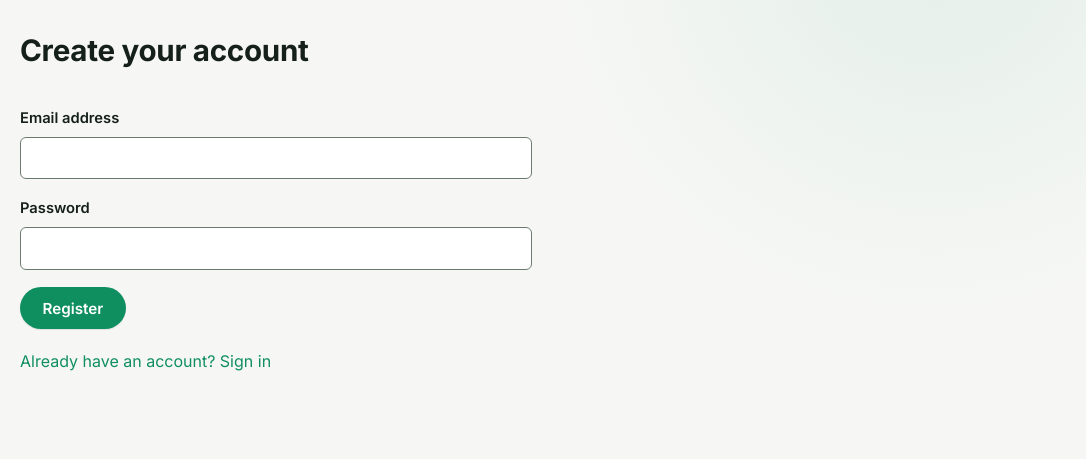
RegisterForm › renders a visible error banner on a mocked 4xx from the register endpoint
Step 1. Type "dupe@example.com" into the field labelled "Email address" → (276, 158), box [20,136,532,179]
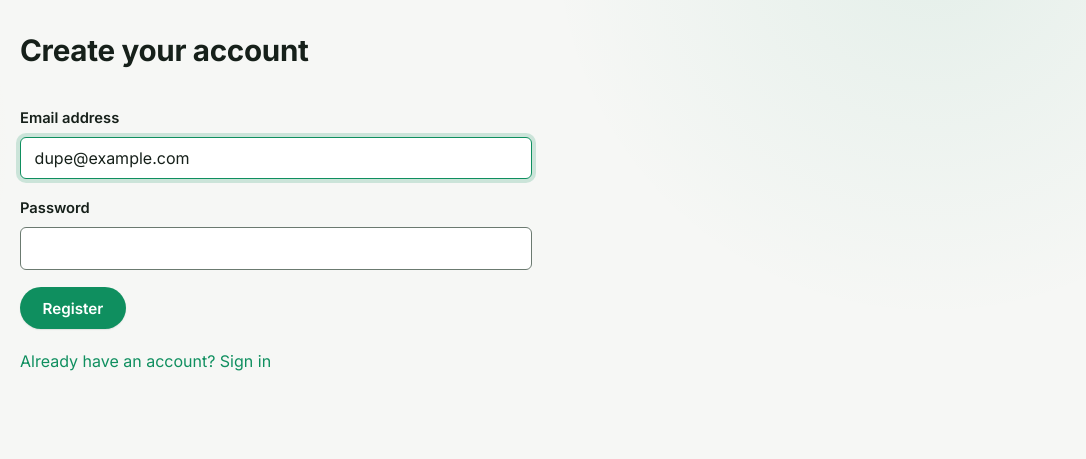
Step 2. Type "a-real-password" into the password field labelled "Password" → (276, 248), box [20,227,532,270]
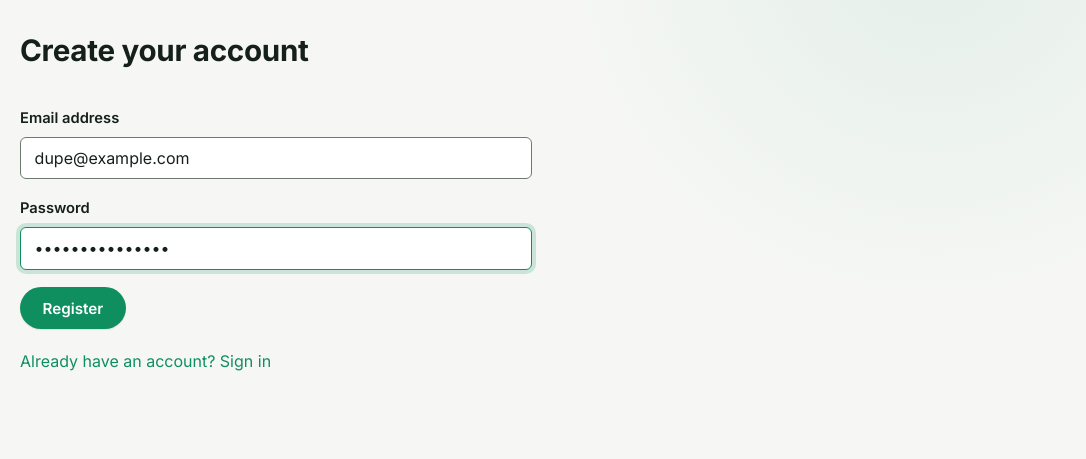
Step 3. Click the button "Register" → click(73, 308), box [20,287,126,329]
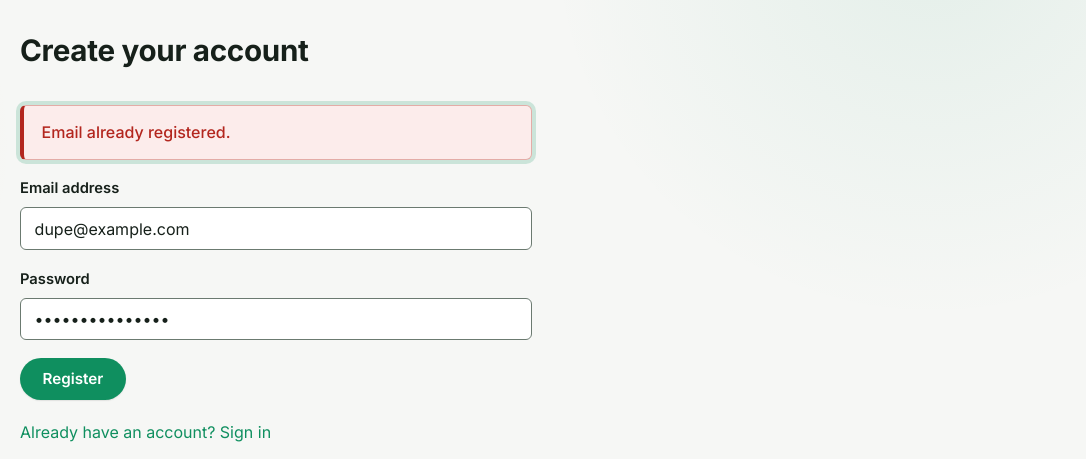
Expected: the message shows "already registered", [42,122,230,142]
